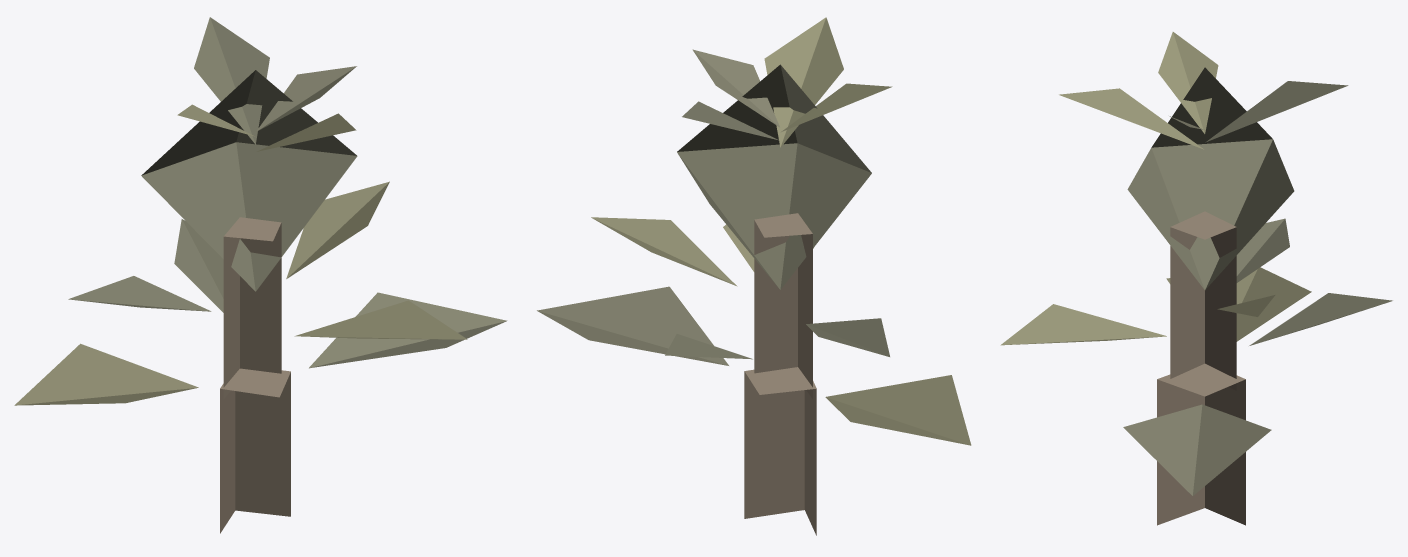
The model's file is hua.zhu@seedling__winter.glb.
3 renders of one model, left to right at view 1: azimuth 30°, elevation 25°; view 2: azimuth 150°, elevation 25°; view 3: azimuth 270°, elevation 25°, orthographic.
Visible parts, largest first — view 1: hua.zhu@seedling__winter; view 2: hua.zhu@seedling__winter; view 3: hua.zhu@seedling__winter.
Part boxes in pixels (x1,y1,x2,y2): hua.zhu@seedling__winter: (14, 17, 507, 533); hua.zhu@seedling__winter: (537, 17, 971, 535); hua.zhu@seedling__winter: (1000, 32, 1392, 525).
Size of the model in its own units: 0.4308 by 0.447 by 0.3168.
